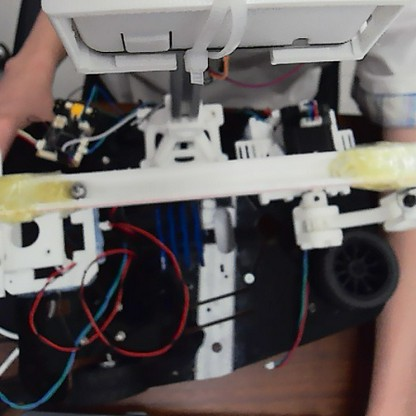ironball: (67, 180, 89, 200)
